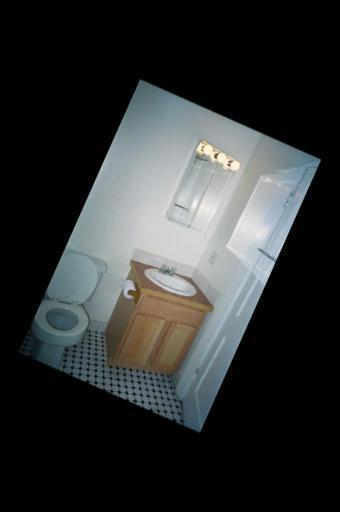Sanitario: (22, 247, 115, 373)
